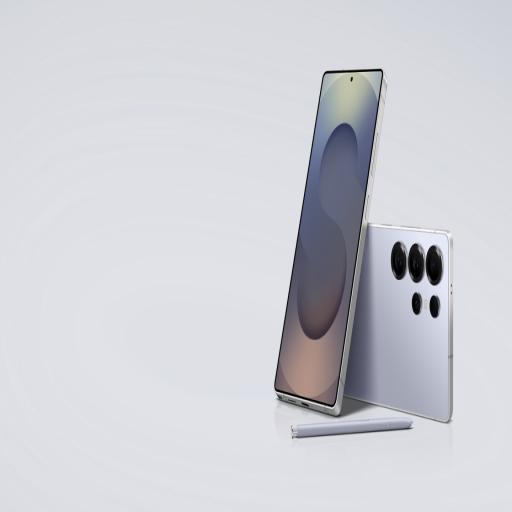phone: (268, 65, 388, 414)
